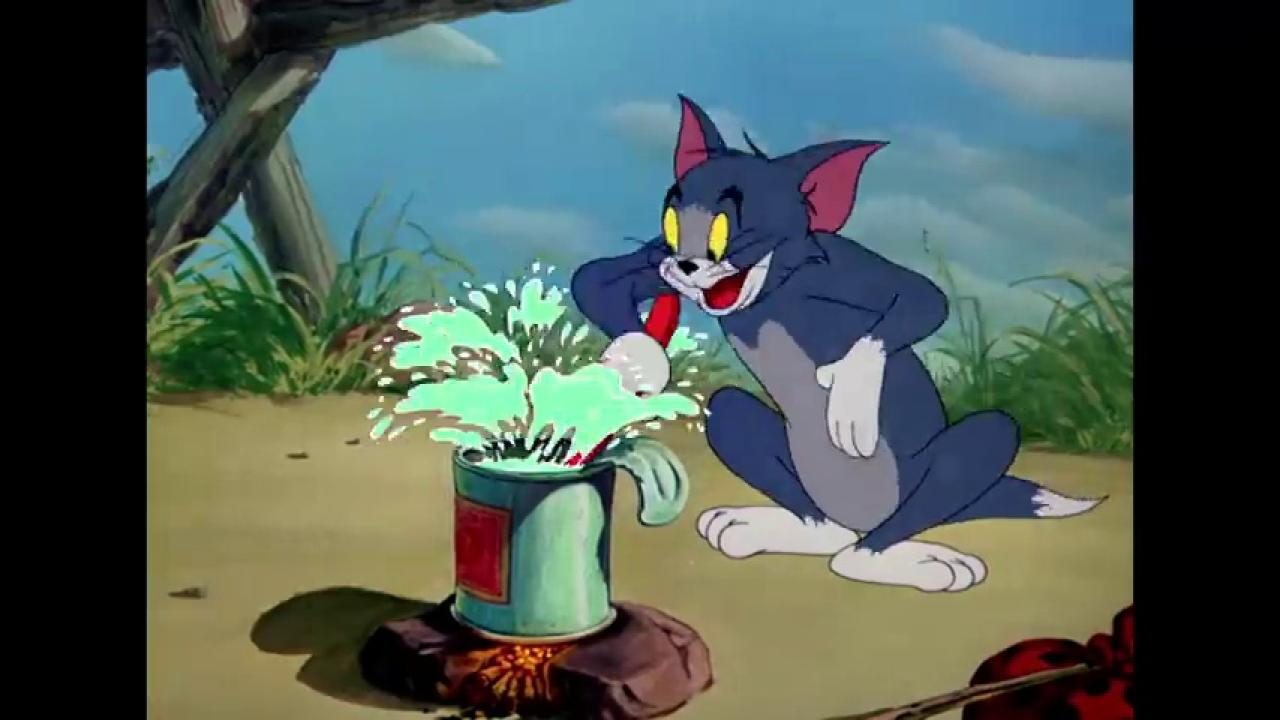Tom: (569, 89, 1110, 593)
